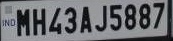character: (15, 8, 30, 36), (123, 3, 138, 30), (32, 7, 46, 35), (79, 5, 93, 33), (108, 3, 122, 31), (137, 1, 151, 29), (48, 7, 62, 34), (63, 6, 77, 33), (151, 1, 164, 30), (93, 5, 107, 31)
